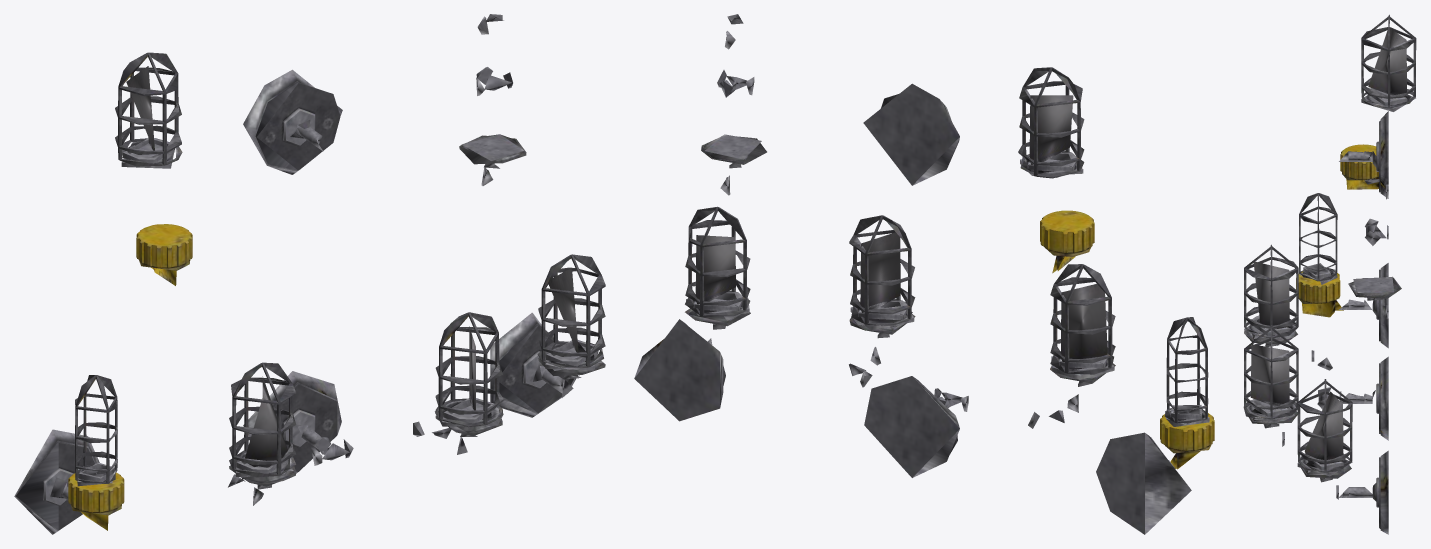
File: sconce.glb
3 renders of one model, left to right at view 1: azimuth 30°, elevation 25°; view 2: azimuth 150°, elevation 25°; view 3: azimuth 270°, elevation 25°, orthographic. The views are drawn at different scales.
Visible parts, largest first — view 1: m; view 2: m; view 3: m.
Boxes of the visible parts, x1=… form: m: x1=14, y1=14, x2=605, y2=534; m: x1=634, y1=14, x2=1214, y2=534; m: x1=1243, y1=14, x2=1416, y2=534.
Size of the model in its own units: 0.2862 by 0.22 by 0.0939.
1 material, 1 textured.
